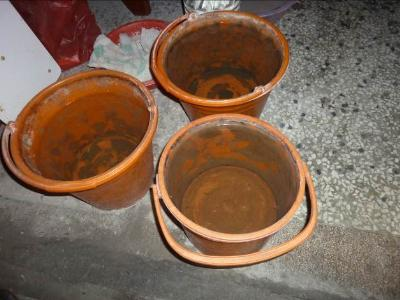tire: (151, 112, 319, 269), (1, 68, 159, 211), (149, 8, 291, 120)
